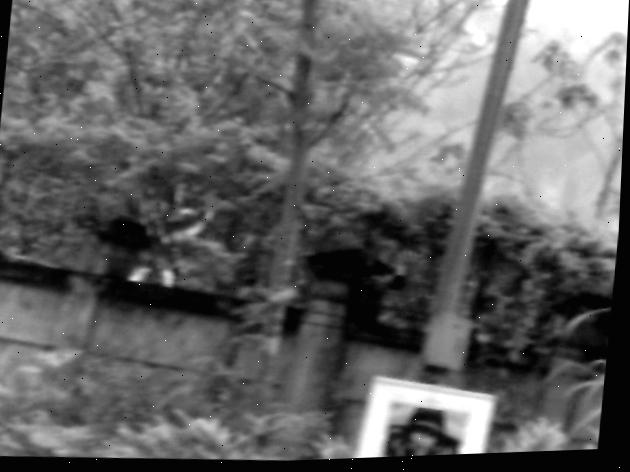bia: (382, 401, 470, 469)
